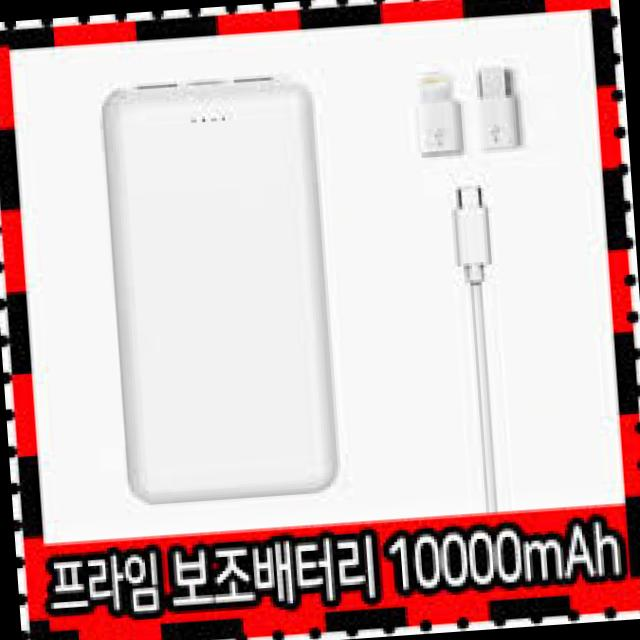power_bank: (97, 69, 343, 508)
